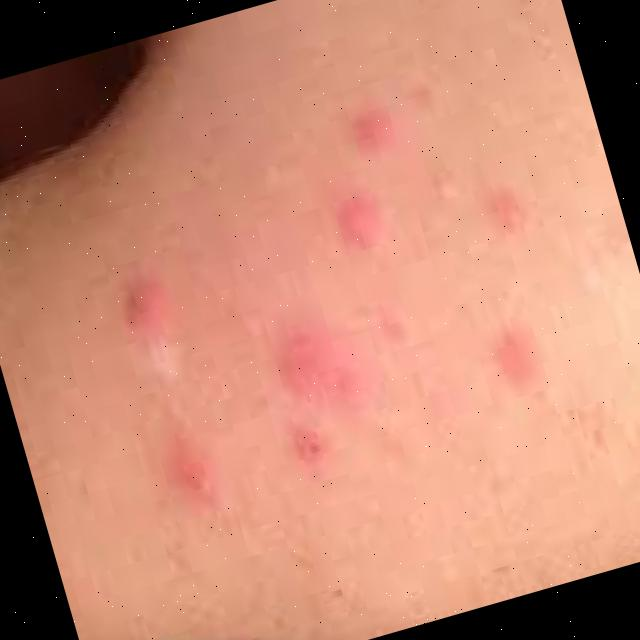kan emici bocekler: (233, 294, 428, 486), (163, 421, 232, 511), (107, 274, 185, 342), (485, 324, 549, 394), (332, 191, 390, 256), (348, 106, 403, 169), (483, 189, 531, 238)
